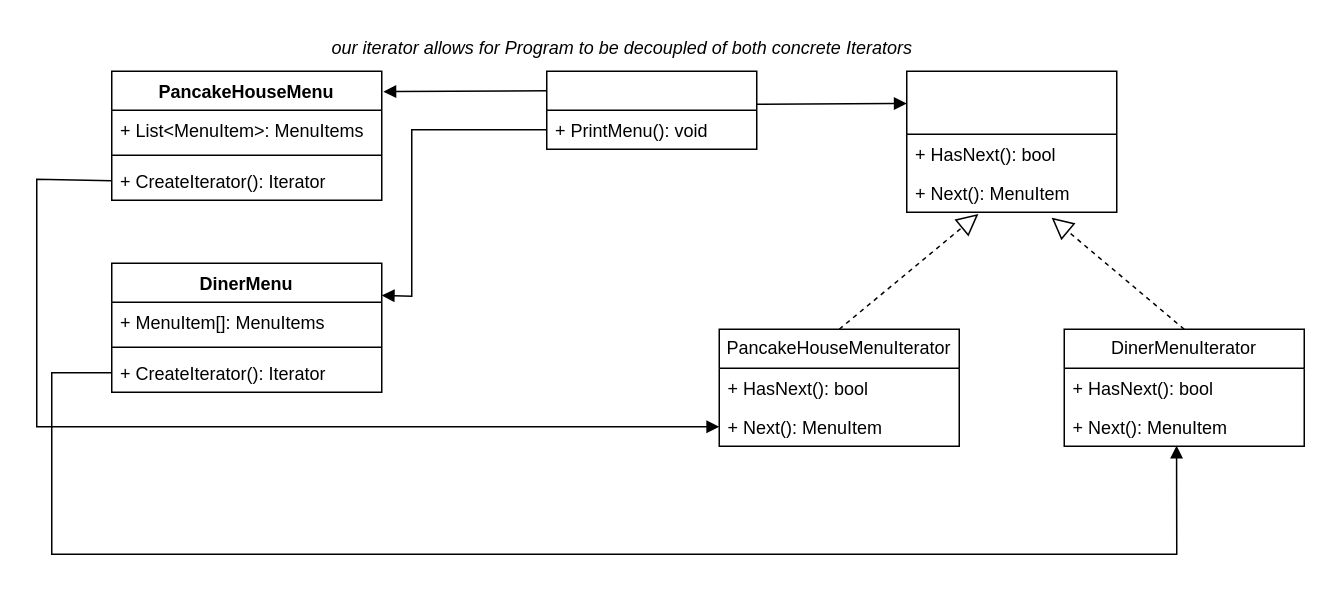
Some shapes in this 1331 by 593 pixel diagram are drawn without their labels. The shapes that lost their labels are listed below. From the top down, each one's box as (x1, y1, x2, y2) in pixels, then its label:
(545, 70, 757, 149): Program
(905, 70, 1117, 212): <<interface>> Iterator
